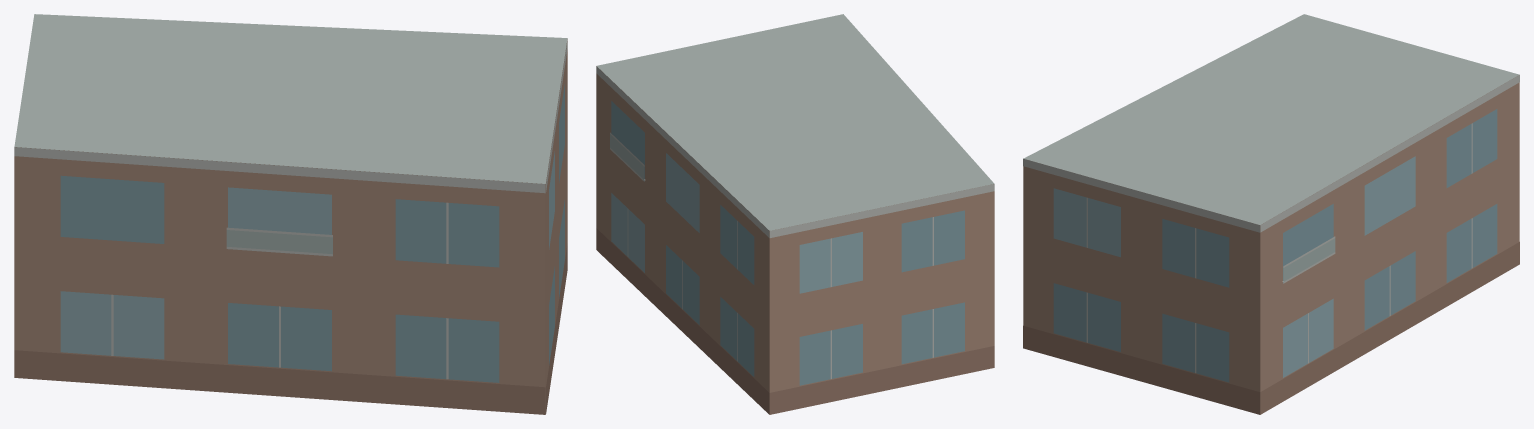
The model's file is survey-upis-32796086.glb.
3 renders of one model, left to right at view 1: azimuth 30°, elevation 25°; view 2: azimuth 150°, elevation 25°; view 3: azimuth 270°, elevation 25°, orthographic. The views are drawn at different scales.
Visible parts, largest first — view 1: survey-upis-32796086.tmp; view 2: survey-upis-32796086.tmp; view 3: survey-upis-32796086.tmp.
Boxes of the visible parts, left/top/right/bottom form: survey-upis-32796086.tmp: left=14, top=14, right=567, bottom=414; survey-upis-32796086.tmp: left=596, top=14, right=994, bottom=414; survey-upis-32796086.tmp: left=1023, top=14, right=1519, bottom=414.
Size of the model in its own units: 14.57 by 6.1 by 14.48.
